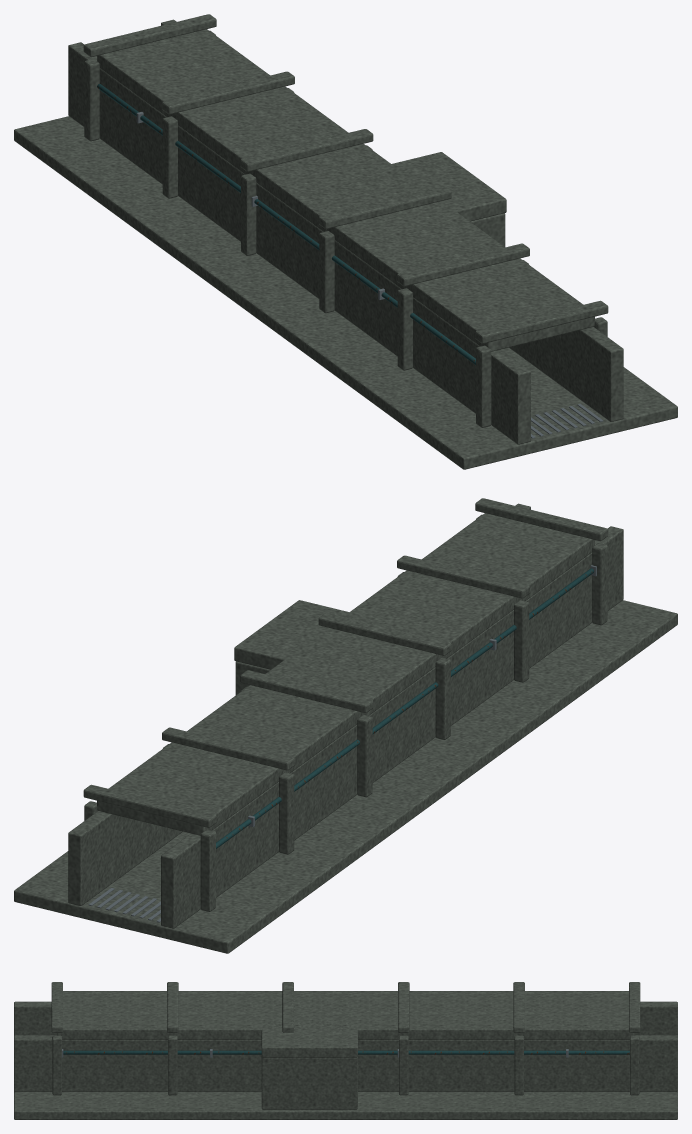
File: IslandTidalCulvert.fbx
The picture shows the model from 3 angles, top to bottom: view 1: azimuth 30°, elevation 25°; view 2: azimuth 150°, elevation 25°; view 3: azimuth 270°, elevation 25°; orthographic projection. The views are drawn at different scales.
Parts seen in each view (by area): view 1: IslandConcrete_Surface__UnityExport, IslandOxide_Surface__UnityExport, IslandMetal_Surface__UnityExport; view 2: IslandConcrete_Surface__UnityExport, IslandOxide_Surface__UnityExport, IslandMetal_Surface__UnityExport; view 3: IslandConcrete_Surface__UnityExport, IslandOxide_Surface__UnityExport.
Part boxes in pixels (x1,y1,x2,y2): IslandConcrete_Surface__UnityExport: [14, 14, 677, 469]; IslandOxide_Surface__UnityExport: [97, 84, 475, 364]; IslandMetal_Surface__UnityExport: [136, 112, 603, 438]; IslandConcrete_Surface__UnityExport: [14, 498, 677, 953]; IslandOxide_Surface__UnityExport: [216, 568, 594, 848]; IslandMetal_Surface__UnityExport: [88, 565, 596, 922]; IslandConcrete_Surface__UnityExport: [14, 982, 677, 1119]; IslandOxide_Surface__UnityExport: [63, 1050, 629, 1054].
Bounding box in the file's own units: 3.8 × 1.77 × 13.8.
